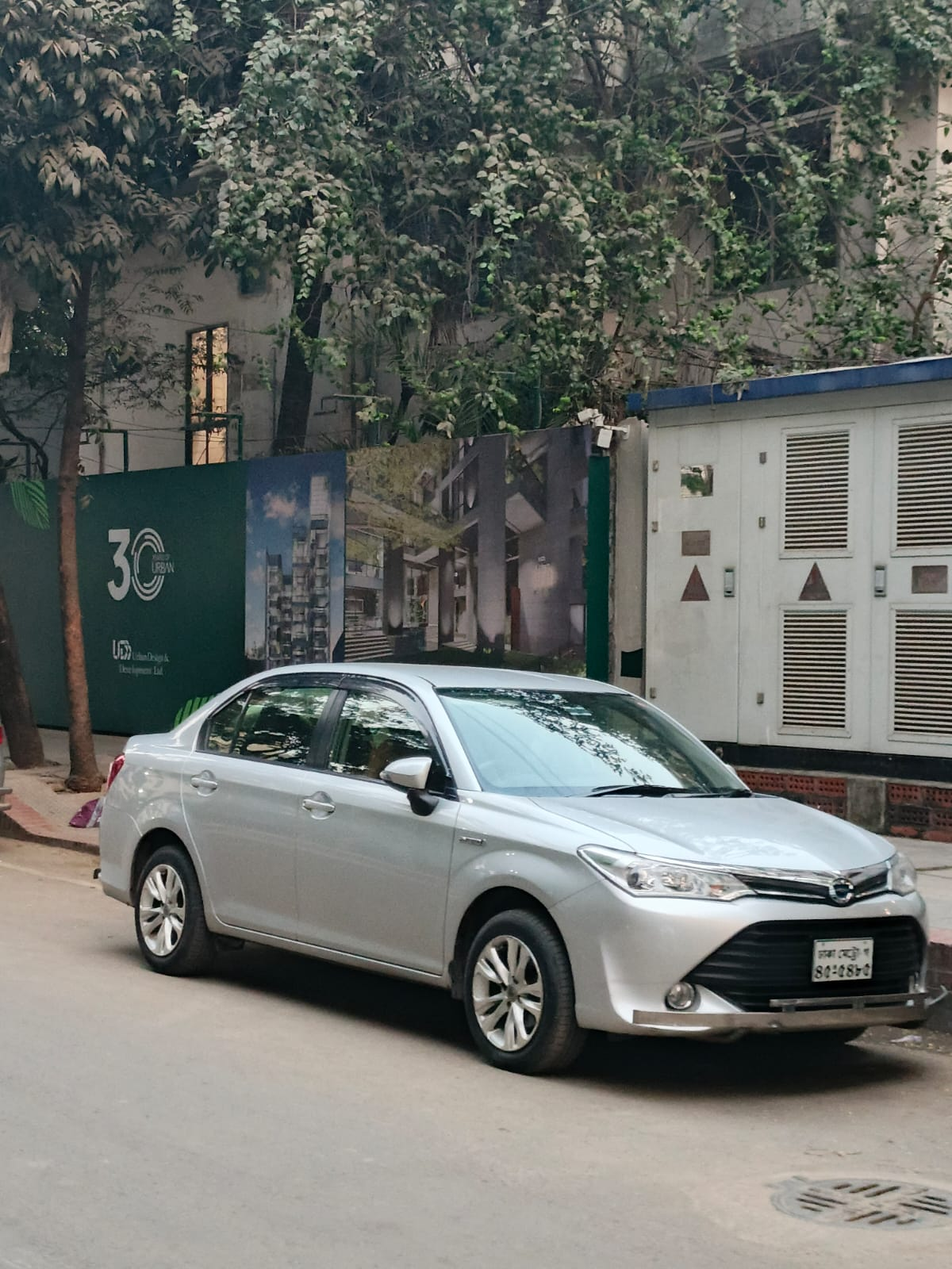private car: (103, 652, 949, 1086)
